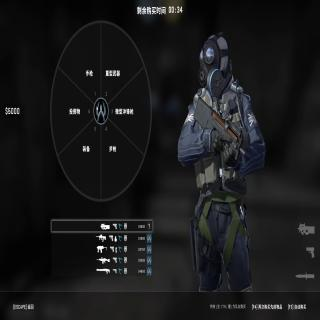CT-Body: (178, 31, 266, 290)
CT-Head: (198, 32, 228, 90)
